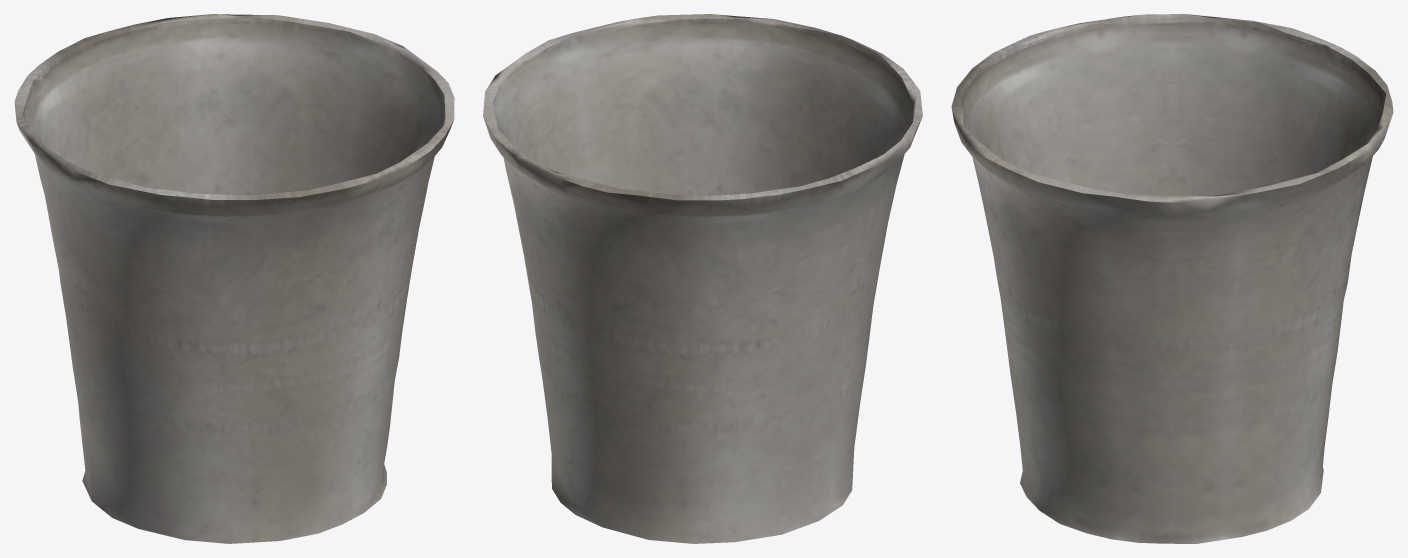
Rendered from Becher_48468.21.glb.
The picture shows the model from 3 angles, left to right: view 1: azimuth 30°, elevation 25°; view 2: azimuth 150°, elevation 25°; view 3: azimuth 270°, elevation 25°; orthographic projection.
Parts seen in each view (by area): view 1: Becher_48468.21_optimized; view 2: Becher_48468.21_optimized; view 3: Becher_48468.21_optimized.
Part boxes in pixels (x1,y1,x2,y2): Becher_48468.21_optimized: (14, 14, 454, 543); Becher_48468.21_optimized: (483, 14, 922, 543); Becher_48468.21_optimized: (951, 14, 1393, 543).
Bounding box in the file's own units: 0.0704 × 0.0661 × 0.0706.
Materials: 1 (1 with a texture image).
